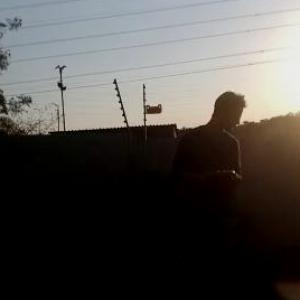follow: (167, 87, 254, 299)
